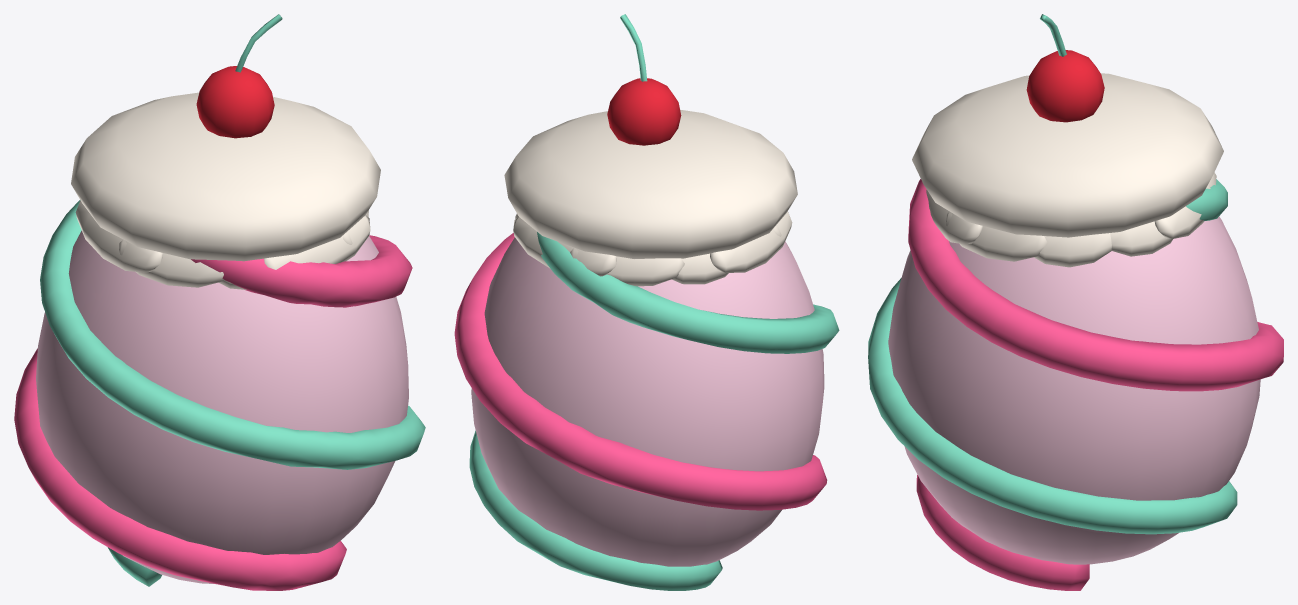
The model's file is EggCandy.glb.
The picture shows the model from 3 angles, left to right: view 1: azimuth 30°, elevation 25°; view 2: azimuth 150°, elevation 25°; view 3: azimuth 270°, elevation 25°; orthographic projection. The views are drawn at different scales.
Visible parts, largest first — view 1: Body; view 2: Body; view 3: Body.
Part boxes in pixels (bbox=[...]): Body: bbox=[14, 14, 425, 590]; Body: bbox=[454, 14, 839, 590]; Body: bbox=[868, 14, 1283, 590].
Bounding box in the file's own units: 2.04 × 3.17 × 2.13.
1 material, 1 textured.
